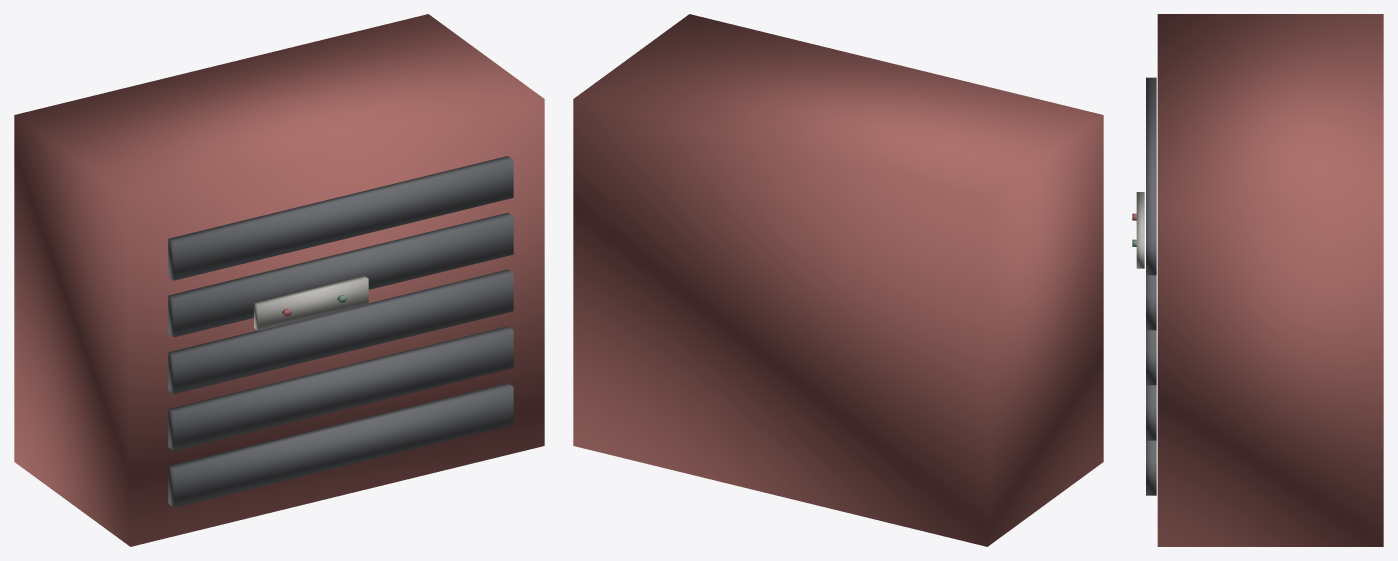
Rendered from tool_cabinet__squat.glb.
3 views of the same model, side by side, from view 1: azimuth 30°, elevation 25°; view 2: azimuth 150°, elevation 25°; view 3: azimuth 270°, elevation 25° (orthographic). The views are drawn at different scales.
Parts seen in each view (by area): view 1: world; view 2: world; view 3: world.
Part boxes in pixels (x1,y1,x2,y2): world: (14,14,544,546); world: (573,14,1103,546); world: (1132,14,1383,546).
Bounding box in the file's own units: 1.15 × 0.924 × 0.6248.
